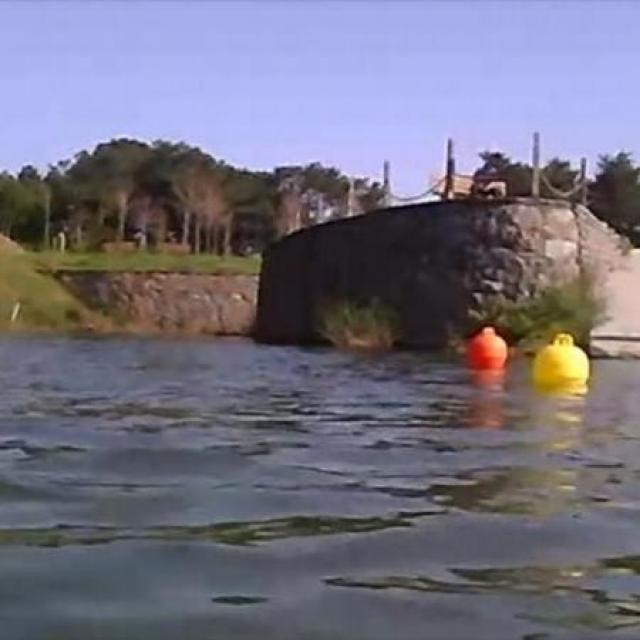buoy: (532, 333, 590, 391), (464, 327, 509, 367)
